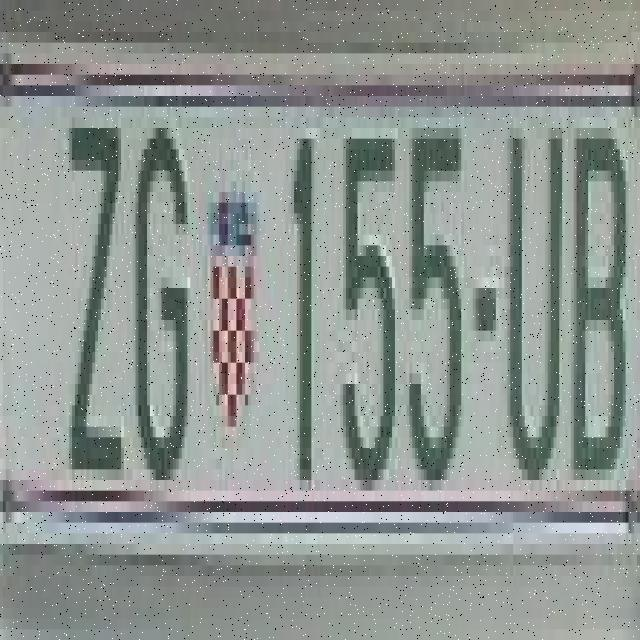1: (284, 117, 319, 480)
5: (405, 107, 466, 480), (337, 112, 398, 485)
B: (569, 112, 630, 475)
G: (131, 112, 192, 485)
U: (505, 107, 565, 469)
Z: (65, 107, 125, 469)
